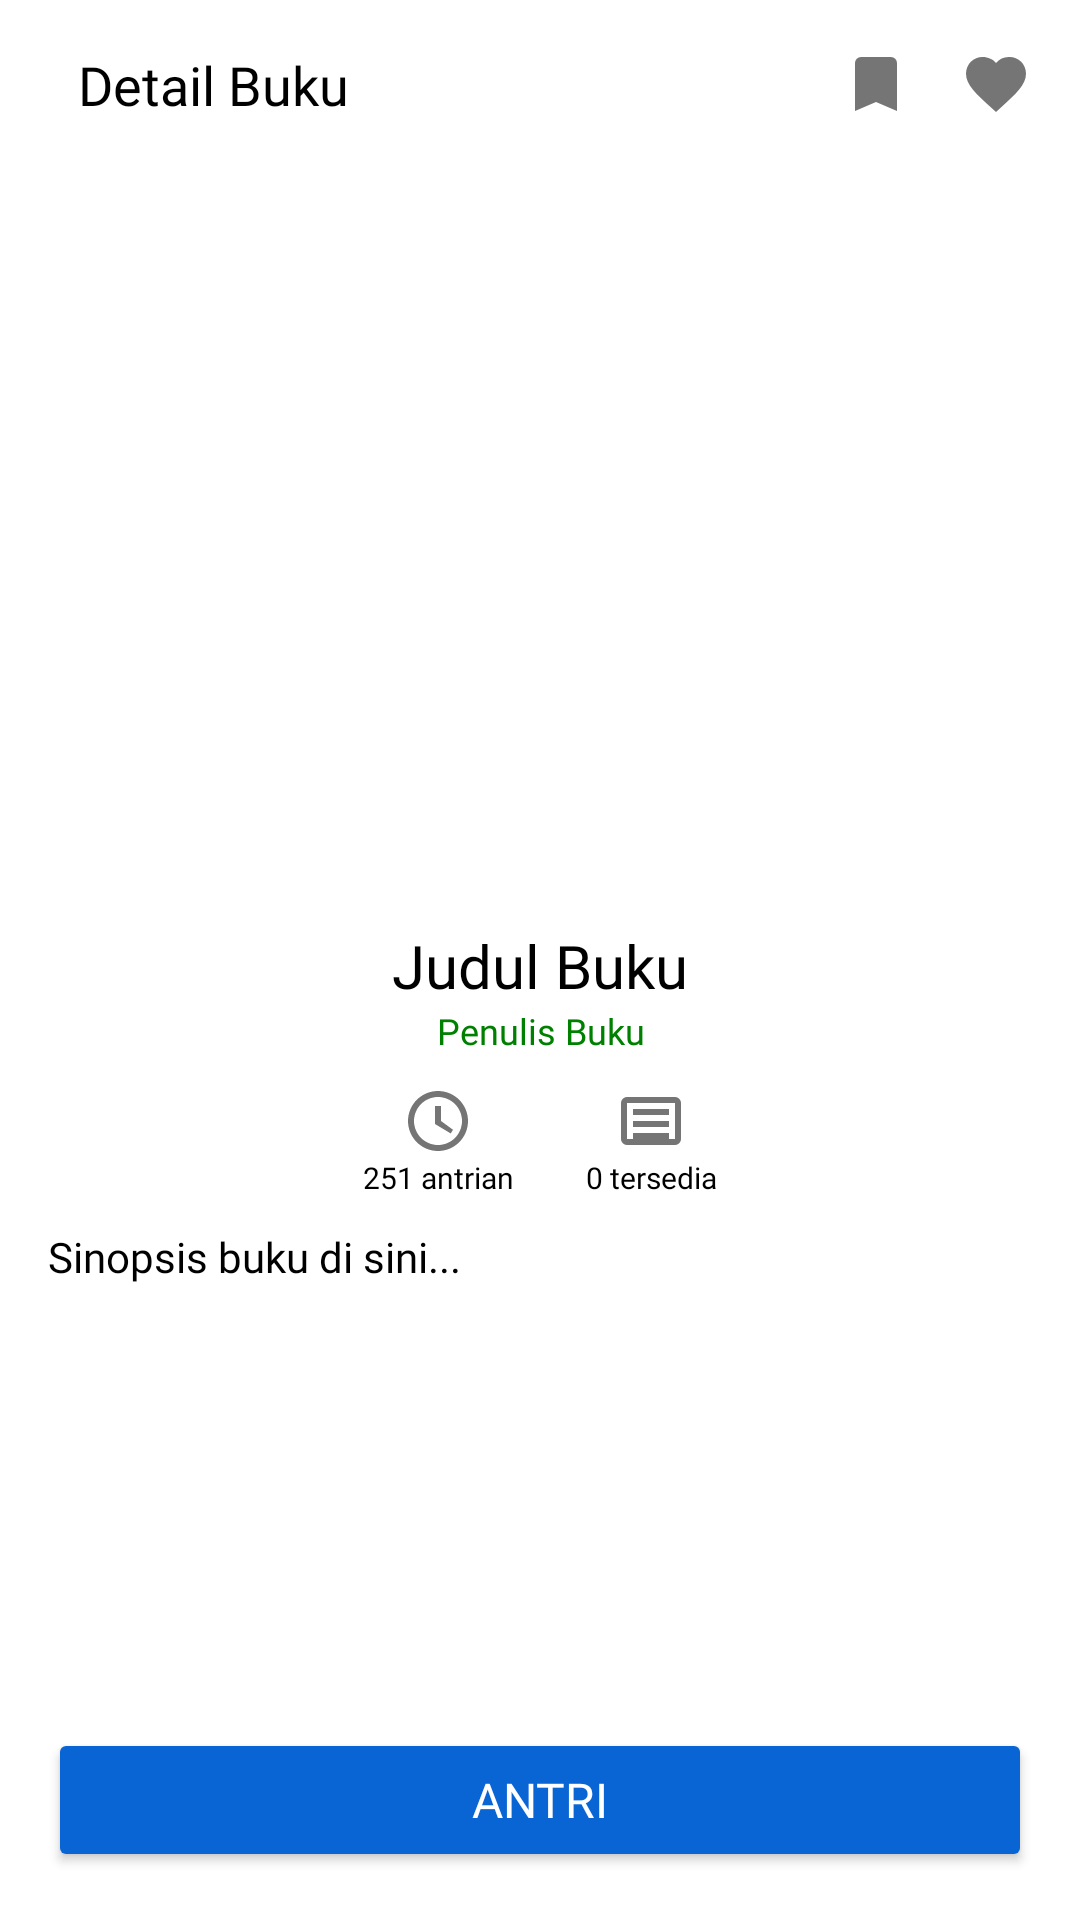

Where icons sit on this 1080×1920 app screen, as (x1, y1, x2, y2):
bookmark: (855, 57, 897, 111)
favorite: (966, 57, 1026, 112)
timer: (408, 1091, 468, 1151)
